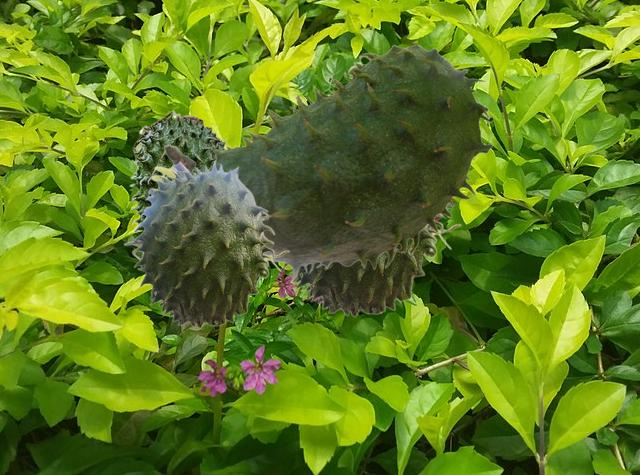guyabano: (163, 44, 493, 282), (123, 159, 289, 328), (282, 215, 461, 317), (129, 109, 228, 256)
